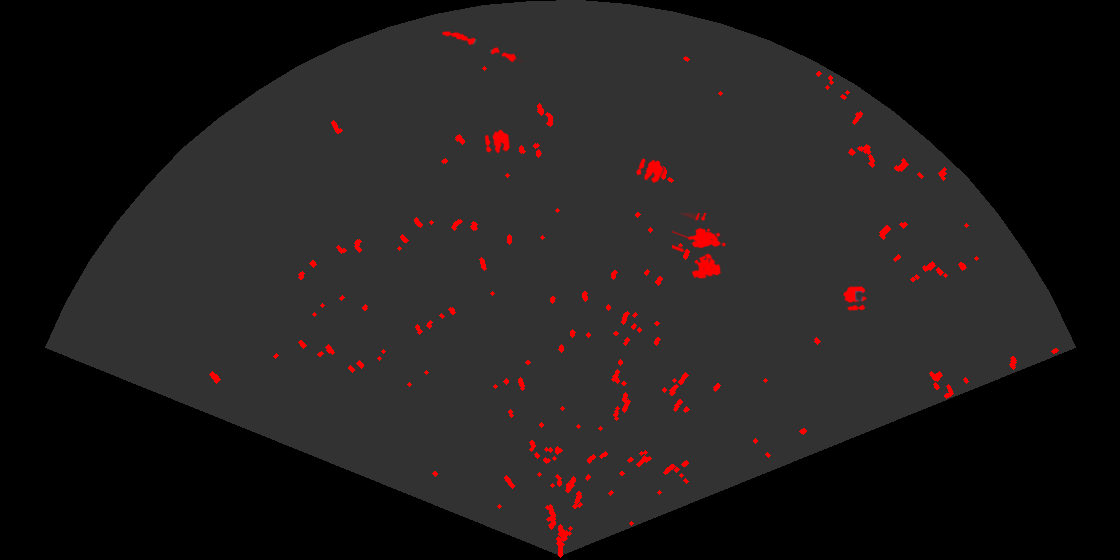ball: (635, 157, 665, 185), (483, 128, 511, 155), (842, 285, 869, 312)
cage: (672, 213, 728, 280)
chain: (440, 29, 523, 64)
